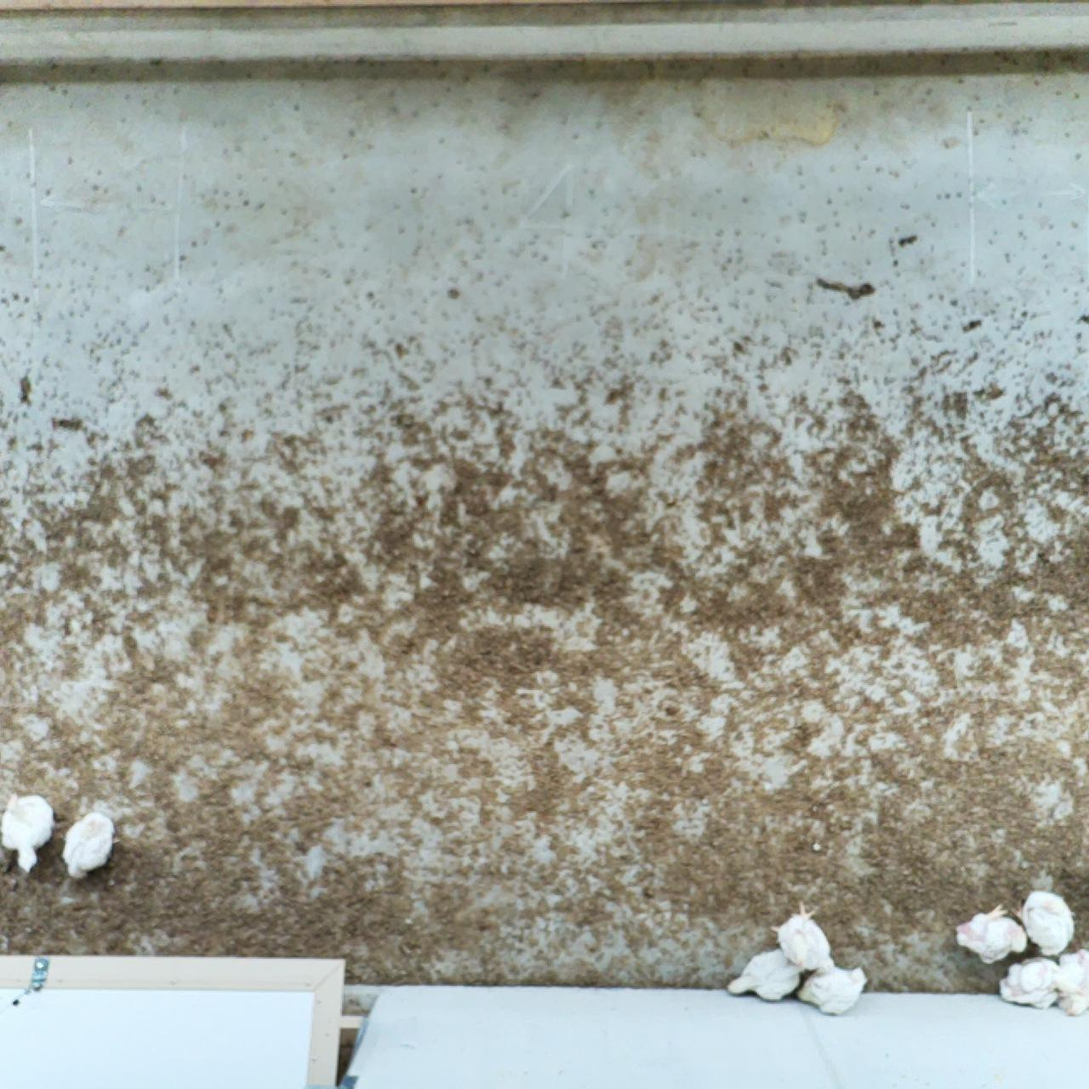chicken: (767, 894, 838, 976), (950, 899, 1029, 965), (721, 945, 806, 1003), (58, 811, 120, 887), (1, 792, 56, 876), (795, 961, 869, 1015), (1020, 889, 1078, 957), (997, 954, 1062, 1013), (1055, 945, 1089, 1019)
